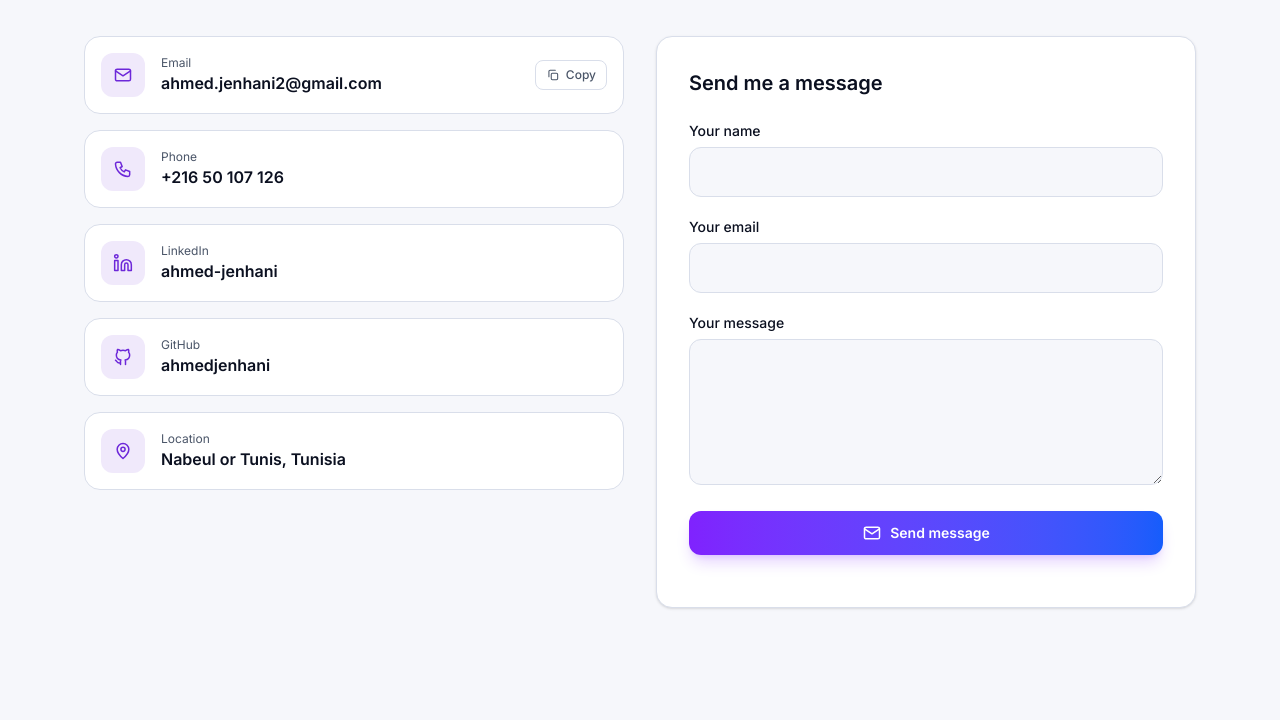
Test case: Contact › shows the visitor what is wrong instead of sending an incomplete message
The width and height of the screenshot is (1280, 720).
(page scrolled)
Click the button with test id "contact-send" at (926, 533), box [689, 511, 1163, 555]
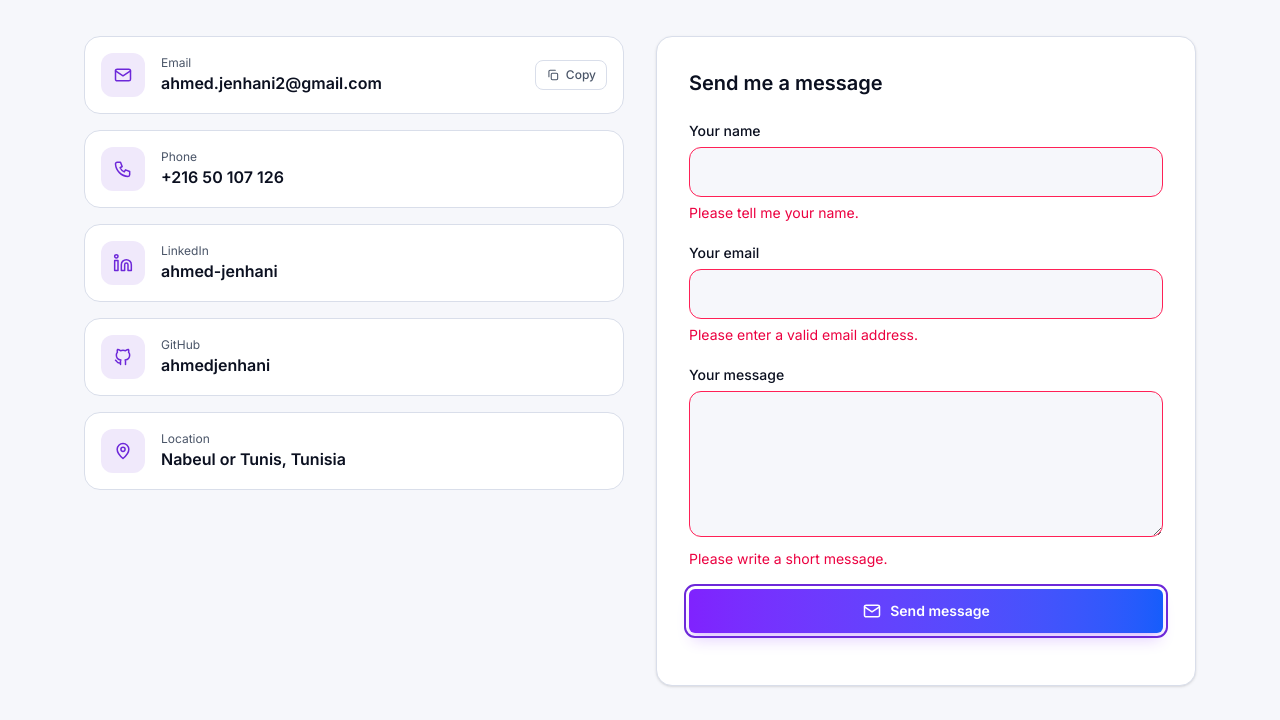
Expected: the number of messages is 3, [689, 204, 859, 221]; [689, 326, 918, 343]; [689, 550, 888, 567]
